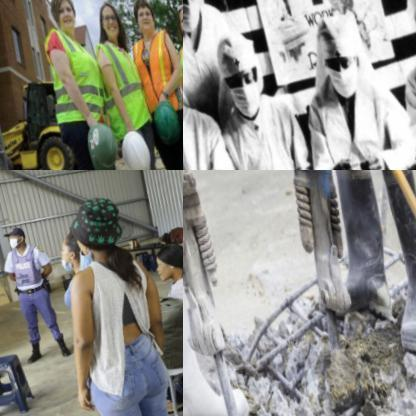Boots: (91, 111, 114, 171), (125, 131, 154, 176), (154, 99, 187, 138)
Glass: (45, 32, 103, 120), (134, 34, 189, 119), (105, 40, 152, 131)
